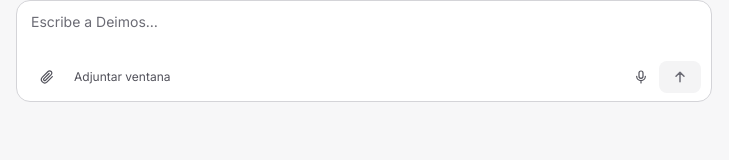
it: attaching from the dialog › says when a window without readable text goes as its capture alone
Click the button "Adjuntar ventana": click(122, 77) [65,61,180,93]
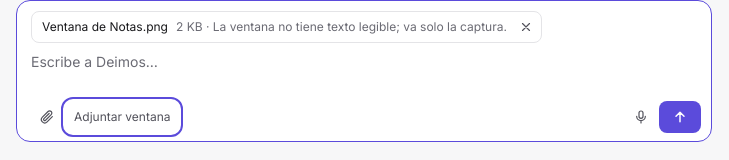
Expected: the list item "Ventana de Notas.png" shows "La ventana no tiene texto legible; va solo la captura.", [176,19,507,34]
